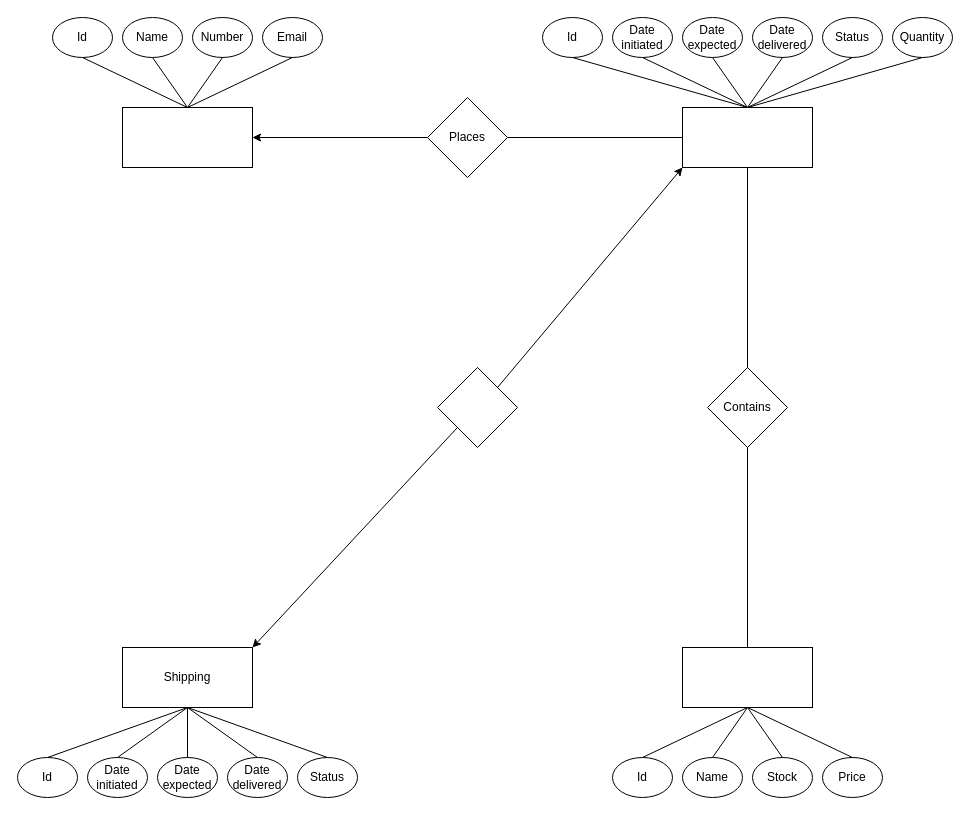
Some shapes in this 970 by 815 pixel diagram are drawn without their labels. Each missing label, with the centre of its shape:
"Custormers" belongs at point 187,137.
"Has" belongs at point 477,407.
"Orders" belongs at point 747,137.
"Products" belongs at point 747,677.
